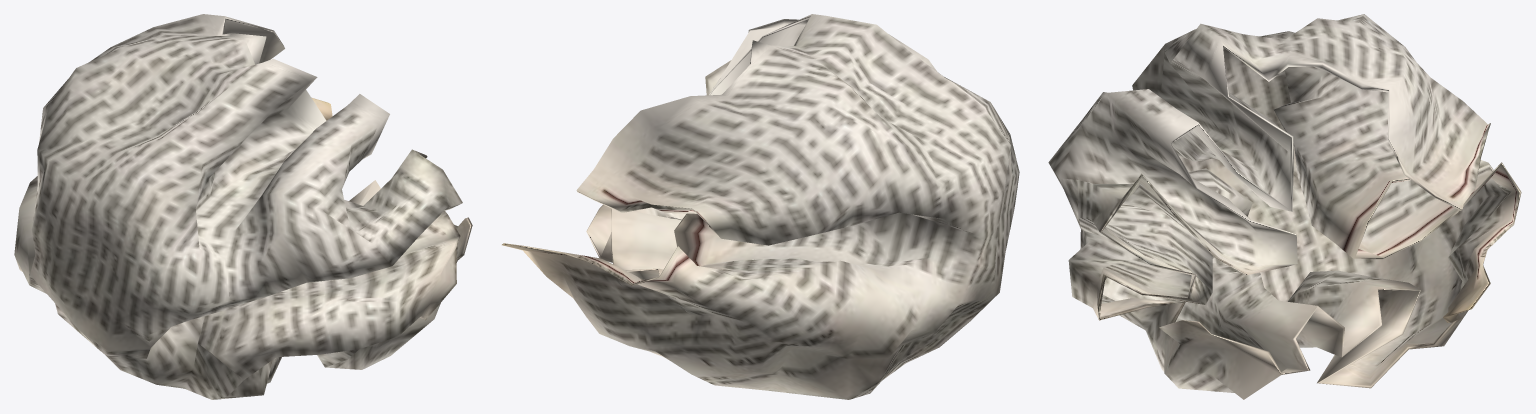
Rendered from trash_paper_crumple_01.dae.
The picture shows the model from 3 angles, left to right: view 1: azimuth 30°, elevation 25°; view 2: azimuth 150°, elevation 25°; view 3: azimuth 270°, elevation 25°; orthographic projection. The views are drawn at different scales.
Visible parts, largest first — view 1: TrashGeneric_A_Paper_Crumple_C.001; view 2: TrashGeneric_A_Paper_Crumple_C.001; view 3: TrashGeneric_A_Paper_Crumple_C.001.
Boxes of the visible parts, x1,y1,x2,y2 form: TrashGeneric_A_Paper_Crumple_C.001: (14, 14, 472, 399); TrashGeneric_A_Paper_Crumple_C.001: (502, 14, 1019, 399); TrashGeneric_A_Paper_Crumple_C.001: (1048, 14, 1521, 399).
Bounding box in the file's own units: 0.1006 × 0.1044 × 0.0776.
Materials: 1 (1 with a texture image).
